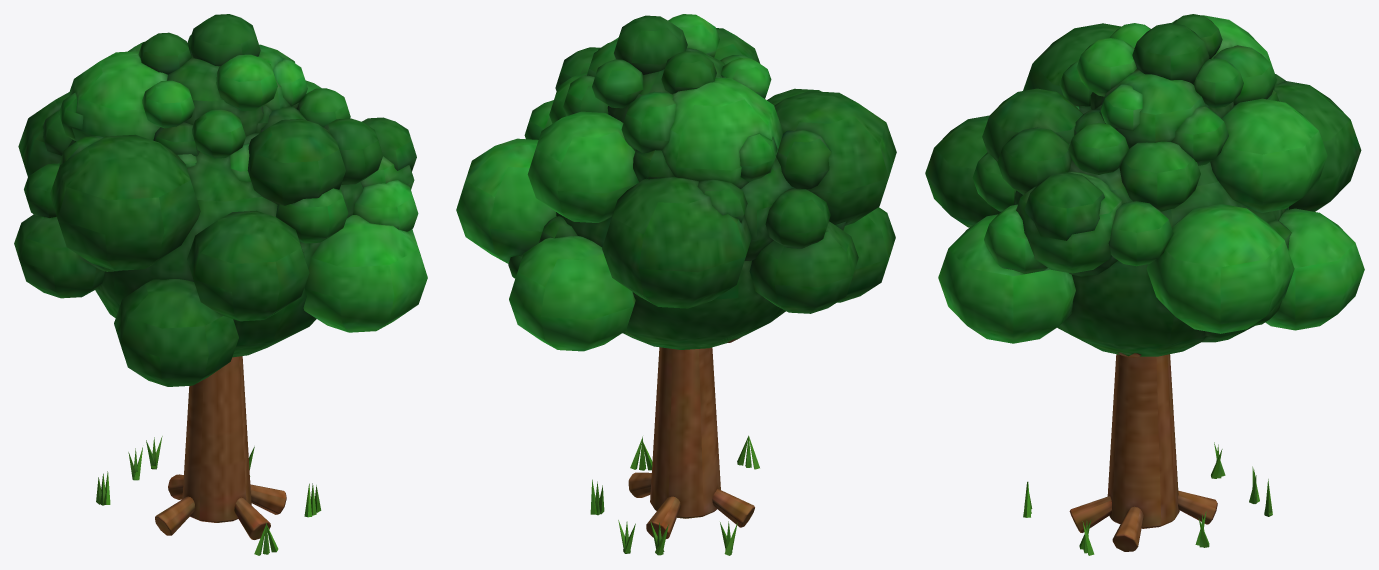
Rendered from tangerine_tree.glb.
3 views of the same model, side by side, from view 1: azimuth 30°, elevation 25°; view 2: azimuth 150°, elevation 25°; view 3: azimuth 270°, elevation 25° (orthographic). The views are drawn at different scales.
Parts seen in each view (by area): view 1: crown, tangerine_tree; view 2: crown, tangerine_tree; view 3: crown, tangerine_tree.
Part boxes in pixels (x1,y1,x2,y2): crown: [14, 14, 427, 386]; tangerine_tree: [96, 356, 321, 555]; crown: [456, 14, 896, 351]; tangerine_tree: [590, 337, 759, 555]; crown: [925, 14, 1364, 356]; tangerine_tree: [1023, 352, 1272, 555].
Size of the model in its own units: 1.07 by 1.38 by 1.08.
Materials: 1 (1 with a texture image).
